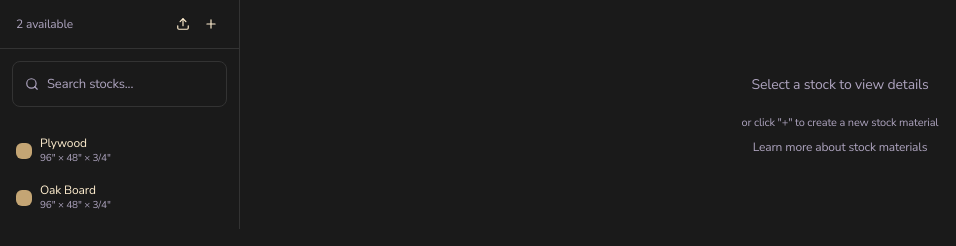
StocksTab › search › filters stocks by search term
Type "Oak" into the field with placeholder "Search stocks..." at (130, 84), box [47, 70, 214, 98]
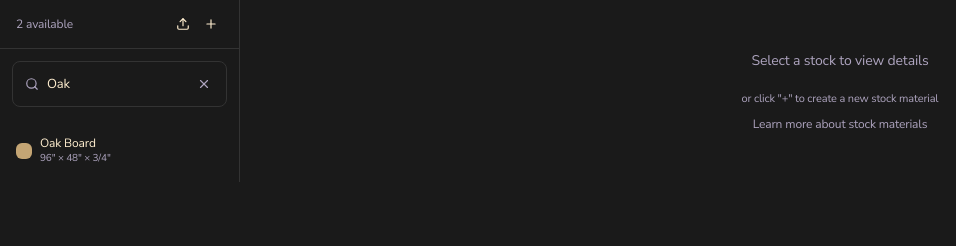
expect the text "Oak Board" is shown: met, box [40, 135, 96, 151]
expect the button "Plywood" is gone: met
